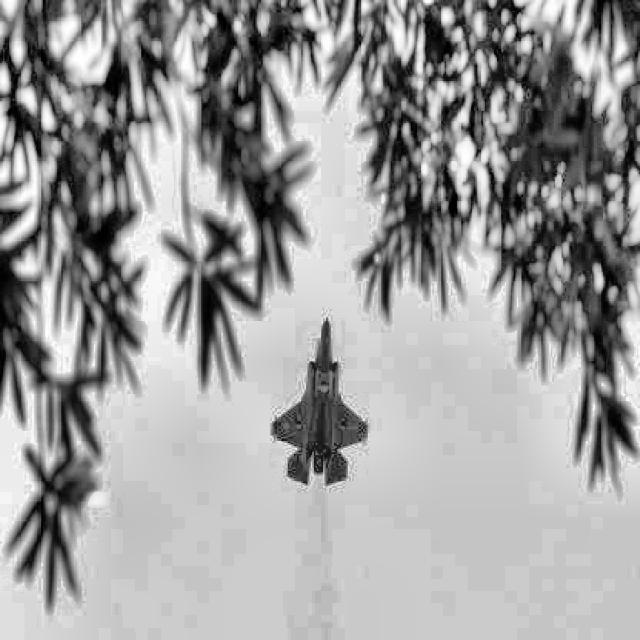F35: (270, 317, 368, 486)
